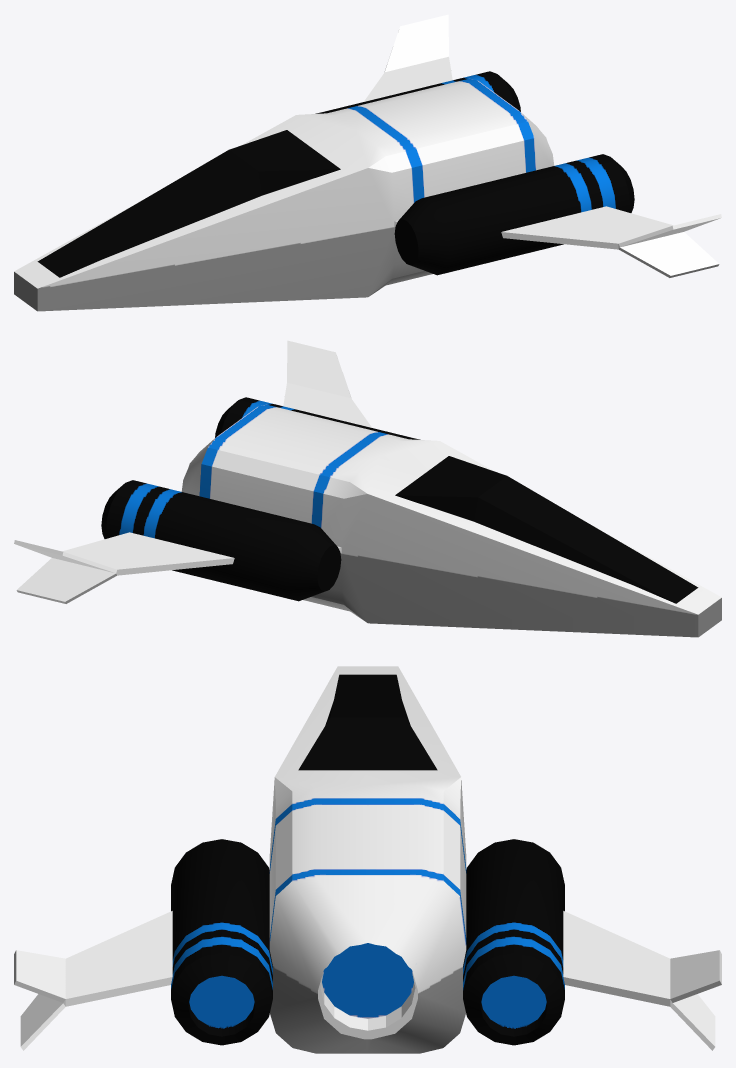
Rendered from ship.glb.
3 renders of one model, top to bottom at view 1: azimuth 30°, elevation 25°; view 2: azimuth 150°, elevation 25°; view 3: azimuth 270°, elevation 25°, orthographic. The views are drawn at different scales.
Parts seen in each view (by area): view 1: Cube.002; view 2: Cube.002; view 3: Cube.002.
Boxes of the visible parts, x1,y1,x2,y2 form: Cube.002: [14, 14, 721, 311]; Cube.002: [14, 340, 721, 637]; Cube.002: [14, 666, 721, 1053].
Bounding box in the file's own units: 8.48 × 2 × 7.21.
Materials: 1 (1 with a texture image).
